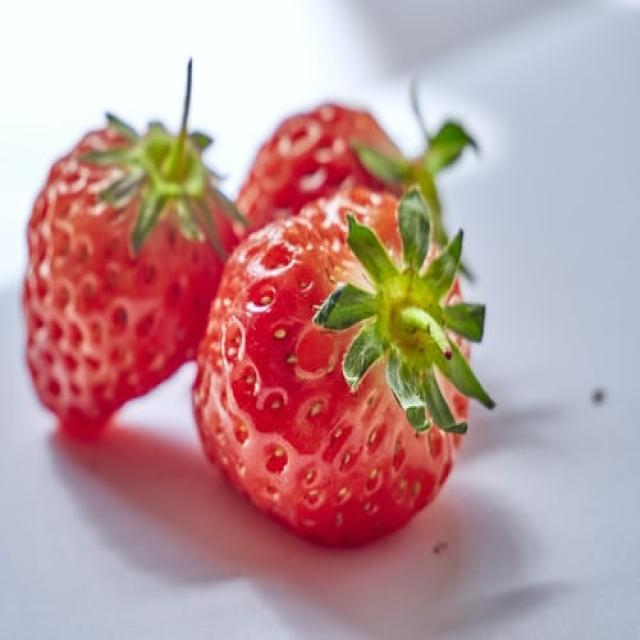straw-ripe: (193, 190, 472, 544), (28, 126, 238, 434)
